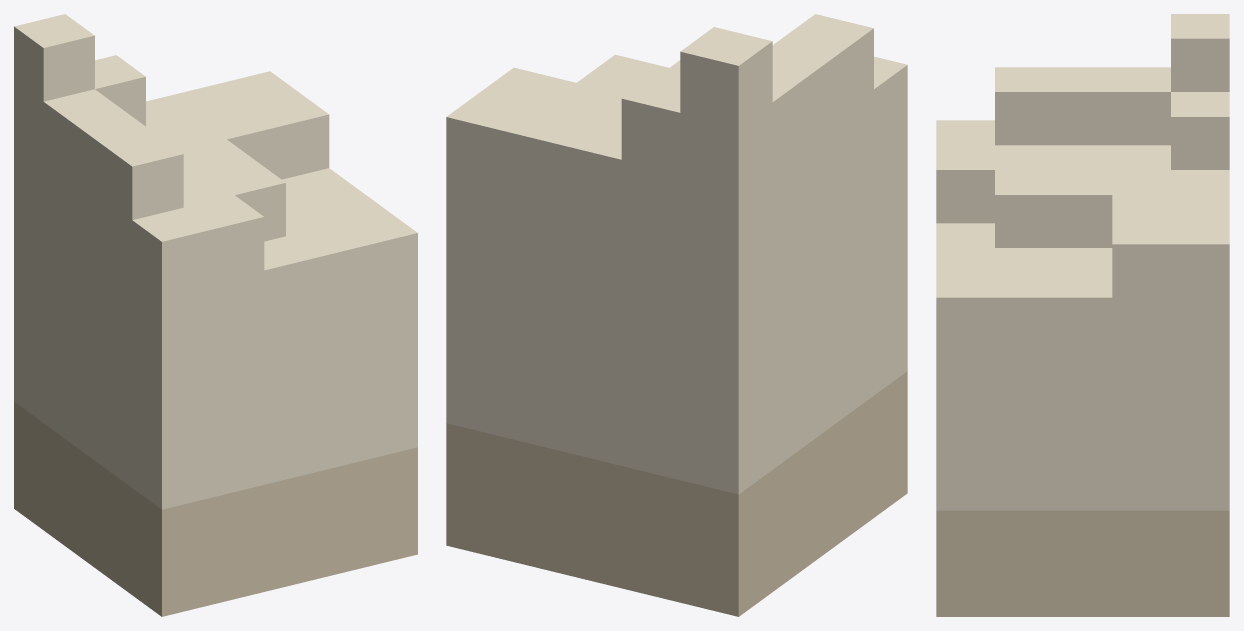
The model's file is polar_bear__leg_br.glb.
3 renders of one model, left to right at view 1: azimuth 30°, elevation 25°; view 2: azimuth 150°, elevation 25°; view 3: azimuth 270°, elevation 25°, orthographic. The views are drawn at different scales.
Parts seen in each view (by area): view 1: polar_bear__leg_br; view 2: polar_bear__leg_br; view 3: polar_bear__leg_br.
Part boxes in pixels (box(x1,y1,x2,y2)): polar_bear__leg_br: box(14, 14, 417, 616); polar_bear__leg_br: box(446, 14, 907, 616); polar_bear__leg_br: box(936, 14, 1229, 616).
Bounding box in the file's own units: 0.5 × 0.9 × 0.5.
1 material, 1 textured.
